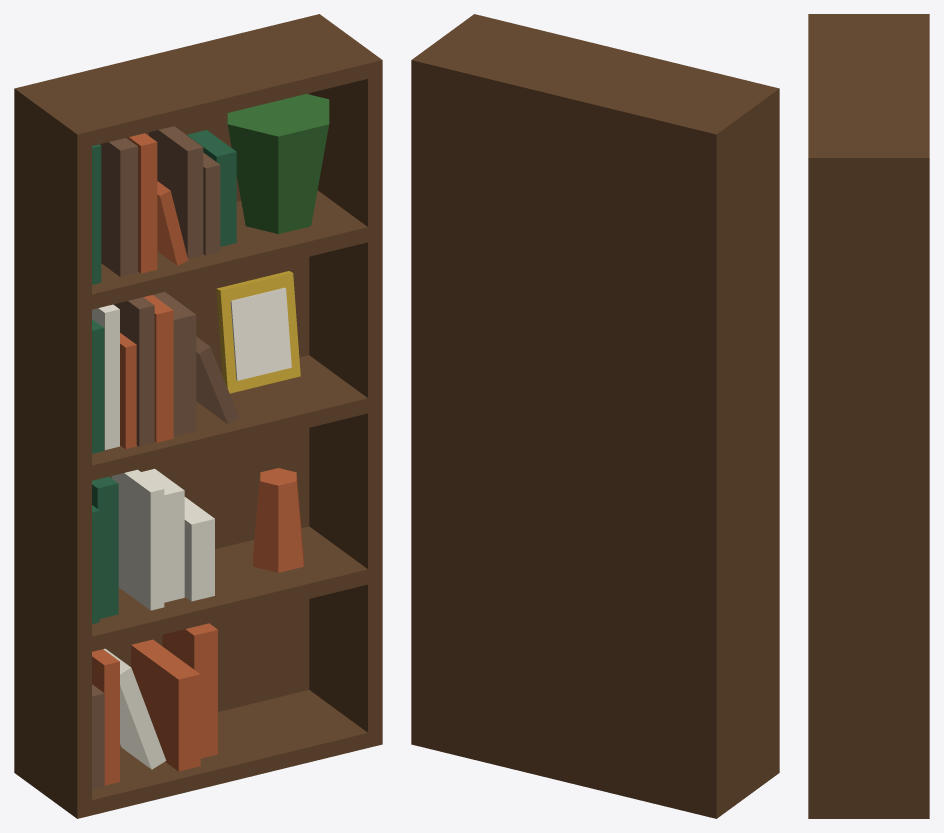
The model's file is GH_Bookcase_03.glb.
3 renders of one model, left to right at view 1: azimuth 30°, elevation 25°; view 2: azimuth 150°, elevation 25°; view 3: azimuth 270°, elevation 25°, orthographic. The views are drawn at different scales.
Parts seen in each view (by area): view 1: GH_Bookcase_03; view 2: GH_Bookcase_03; view 3: GH_Bookcase_03.
Boxes of the visible parts, box(x1,y1,x2,y2) form: GH_Bookcase_03: box(14, 14, 382, 818); GH_Bookcase_03: box(411, 14, 779, 818); GH_Bookcase_03: box(808, 14, 929, 818).
Bounding box in the file's own units: 0.84 × 1.8 × 0.3.
1 material, 1 textured.
